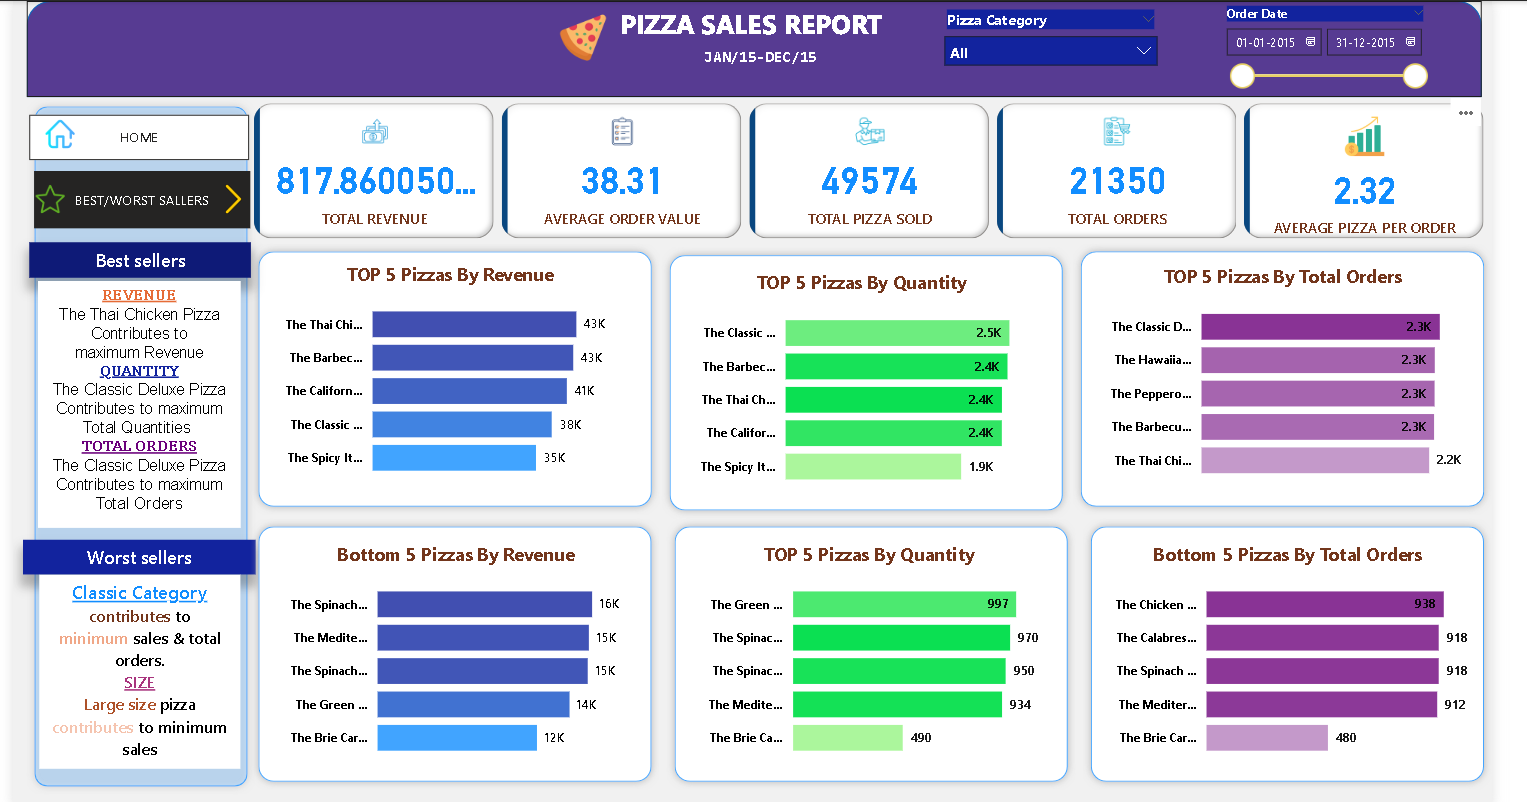

What the dashboard file says about the page in this screenshot:
{"tool":"powerbi","page":{"name":"BEST/WORST SALLERS","canvas":[1500,820],"ordinal":1},"visuals":[{"type":"shape","box":[14,99.2,232,705.7],"z":0},{"type":"cardVisual","fields":{"Data":["pizza_sales.TOTAL REVENUE","pizza_sales.AVERAGE ORDER VALUE","pizza_sales.TOTAL PIZZA SOLD","pizza_sales.TOTAL ORDERS","pizza_sales.AVERAGE PIZZA PER ORDER"]},"box":[239.7,98.5,1260.3,147.1],"z":1000},{"type":"shape","box":[14,0,1475.7,97.8],"z":2000},{"type":"textbox","box":[563.2,0,372.1,54.4],"z":3000},{"type":"textbox","box":[688.3,42.8,139.7,32.8],"z":4000},{"type":"image","box":[548.5,0,58.8,75],"z":5000},{"type":"shape","box":[240.4,245.9,415,275],"z":6000},{"type":"textbox","box":[16.8,244.5,225,36.3],"z":7000},{"type":"textbox","box":[25.2,283.7,205.4,250.1],"z":8000},{"type":"textbox","box":[9.8,546.4,236.2,34.9],"z":9000},{"type":"textbox","box":[26.6,581.3,204,197],"z":10000},{"type":"slicer","fields":{"Values":["pizza_sales.pizza_category"]},"box":[934.9,4.2,236.2,71.3],"z":11000},{"type":"slicer","fields":{"Values":["pizza_sales.order_date"]},"box":[1218.5,0,225,97.8],"z":12000},{"type":"shape","box":[657.4,250,414.7,275],"z":13000},{"type":"shape","box":[1075,245.6,425,275],"z":14000},{"type":"shape","box":[241.2,525,414.7,275],"z":15000},{"type":"shape","box":[663.2,525,414.7,275],"z":16000},{"type":"shape","box":[1085.3,525,414.7,275],"z":17000},{"type":"barChart","title":"TOP 5 Pizzas By Revenue","fields":{"Category":["pizza_sales.pizza_name"],"Y":["pizza_sales.TOTAL REVENUE"]},"box":[260.3,263.2,367.6,232.4],"z":18000},{"type":"barChart","title":"Bottom 5 Pizzas By Revenue","fields":{"Category":["pizza_sales.pizza_name"],"Y":["pizza_sales.TOTAL REVENUE"]},"box":[264.7,547.1,367.6,232.4],"z":19000},{"type":"barChart","title":"TOP 5 Pizzas By Quantity","fields":{"Category":["pizza_sales.pizza_name"],"Y":["pizza_sales.TOTAL PIZZA SOLD"]},"box":[680.9,272.1,360.3,232.4],"z":20000},{"type":"barChart","title":"TOP 5 Pizzas By Quantity","fields":{"Category":["pizza_sales.pizza_name"],"Y":["pizza_sales.TOTAL PIZZA SOLD"]},"box":[688.2,547.1,360.3,232.4],"z":21000},{"type":"barChart","title":"TOP 5 Pizzas By Total Orders","fields":{"Category":["pizza_sales.pizza_name"],"Y":["pizza_sales.TOTAL ORDERS"]},"box":[1097.1,266.2,382.4,232.4],"z":22000},{"type":"barChart","title":"Bottom 5 Pizzas By Total Orders","fields":{"Category":["pizza_sales.pizza_name"],"Y":["pizza_sales.TOTAL ORDERS"]},"box":[1101.5,547.1,382.4,232.4],"z":23000},{"type":"pageNavigator","box":[16.8,116,223.6,46.1],"z":24000},{"type":"pageNavigator","box":[21,171.9,219.4,58.7],"z":25000},{"type":"image","box":[26.6,116,41.9,39.1],"z":26000},{"type":"image","box":[9.8,181.7,54.5,39.1],"z":27000},{"type":"image","box":[201.2,181.7,44.7,39.1],"z":28000}]}

Visuals, with their boxes on the page's 1500x820 design canvas (x1, y1, x2, y2). These are canvas units, not pixel positions in the 1527x802 screenshot, which may show the page scaled, cropped or inside an application window:
shape: box(14, 99, 246, 805)
cardVisual - pizza_sales.TOTAL REVENUE x pizza_sales.AVERAGE ORDER VALUE: box(240, 98, 1500, 246)
shape: box(14, 0, 1490, 98)
textbox: box(563, 0, 935, 54)
textbox: box(688, 43, 828, 76)
image: box(548, 0, 607, 75)
shape: box(240, 246, 655, 521)
textbox: box(17, 244, 242, 281)
textbox: box(25, 284, 231, 534)
textbox: box(10, 546, 246, 581)
textbox: box(27, 581, 231, 778)
slicer - pizza_sales.pizza_category: box(935, 4, 1171, 76)
slicer - pizza_sales.order_date: box(1218, 0, 1444, 98)
shape: box(657, 250, 1072, 525)
shape: box(1075, 246, 1500, 521)
shape: box(241, 525, 656, 800)
shape: box(663, 525, 1078, 800)
shape: box(1085, 525, 1500, 800)
"TOP 5 Pizzas By Revenue" barChart: box(260, 263, 628, 496)
"Bottom 5 Pizzas By Revenue" barChart: box(265, 547, 632, 780)
"TOP 5 Pizzas By Quantity" barChart: box(681, 272, 1041, 504)
"TOP 5 Pizzas By Quantity" barChart: box(688, 547, 1048, 780)
"TOP 5 Pizzas By Total Orders" barChart: box(1097, 266, 1480, 499)
"Bottom 5 Pizzas By Total Orders" barChart: box(1102, 547, 1484, 780)
pageNavigator: box(17, 116, 240, 162)
pageNavigator: box(21, 172, 240, 231)
image: box(27, 116, 68, 155)
image: box(10, 182, 64, 221)
image: box(201, 182, 246, 221)
